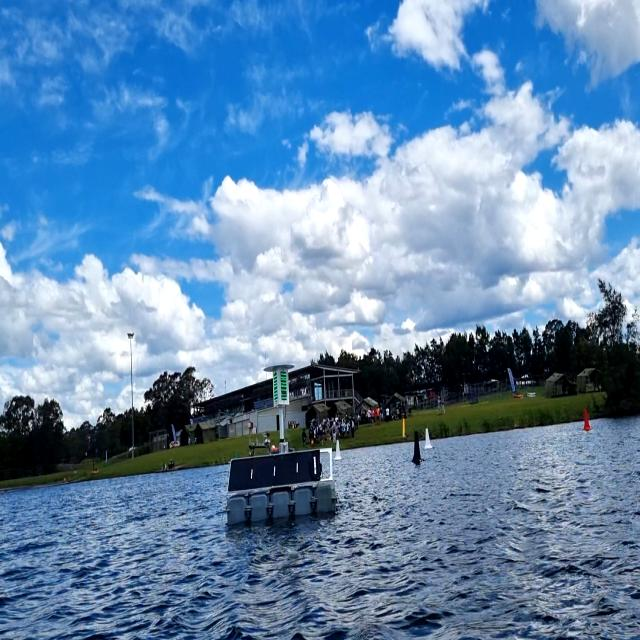led: (278, 369, 288, 404), (274, 370, 278, 402)
